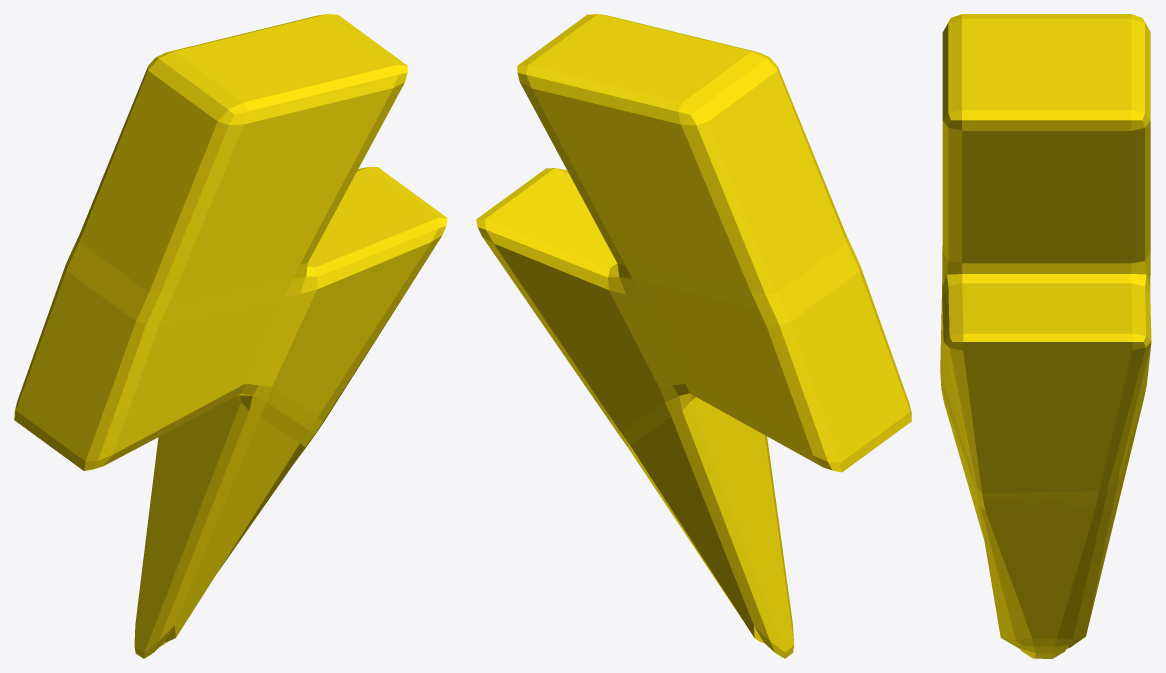
File: stun_item.fbx
3 renders of one model, left to right at view 1: azimuth 30°, elevation 25°; view 2: azimuth 150°, elevation 25°; view 3: azimuth 270°, elevation 25°, orthographic. The views are drawn at different scales.
Parts seen in each view (by area): view 1: stun_item; view 2: stun_item; view 3: stun_item.
Part boxes in pixels (x1,y1,x2,y2): stun_item: (14, 14, 447, 658); stun_item: (476, 14, 911, 658); stun_item: (940, 14, 1151, 658).
Size of the model in its own units: 128 by 189 by 52.91.
